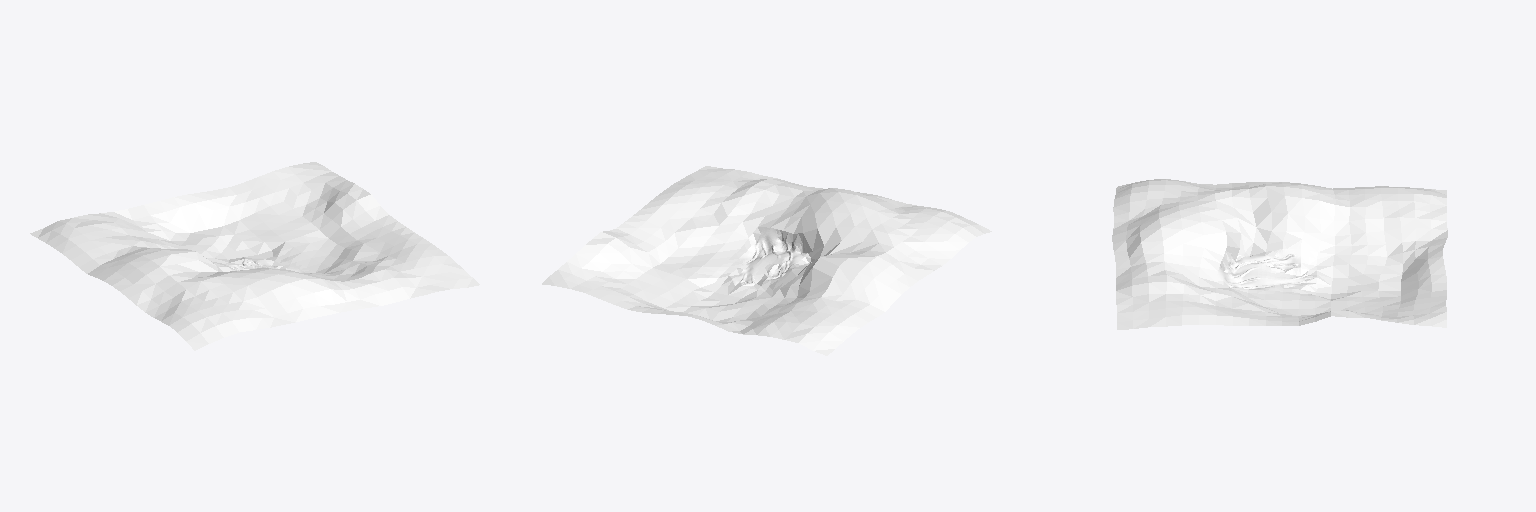
File: ground_planeShape.obj
3 views of the same model, side by side, from view 1: azimuth 30°, elevation 25°; view 2: azimuth 150°, elevation 25°; view 3: azimuth 270°, elevation 25° (orthographic).
Visible parts, largest first — view 1: subset0_ground; view 2: subset0_ground; view 3: subset0_ground.
Boxes of the visible parts, <box> form: subset0_ground: <box>30,162,479,350</box>; subset0_ground: <box>542,166,991,355</box>; subset0_ground: <box>1112,179,1447,329</box>.
Size of the model in its own units: 47.88 by 7.76 by 48.31.